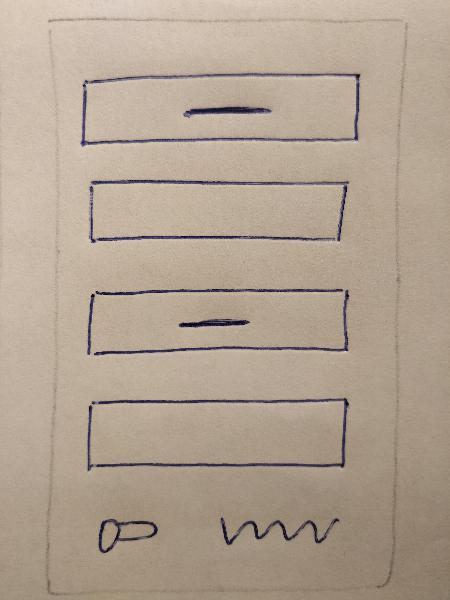button: (74, 277, 365, 368), (73, 65, 364, 156)
switch: (87, 512, 166, 559)
text: (207, 500, 349, 557)
text_input: (78, 173, 357, 255), (76, 393, 355, 475)
